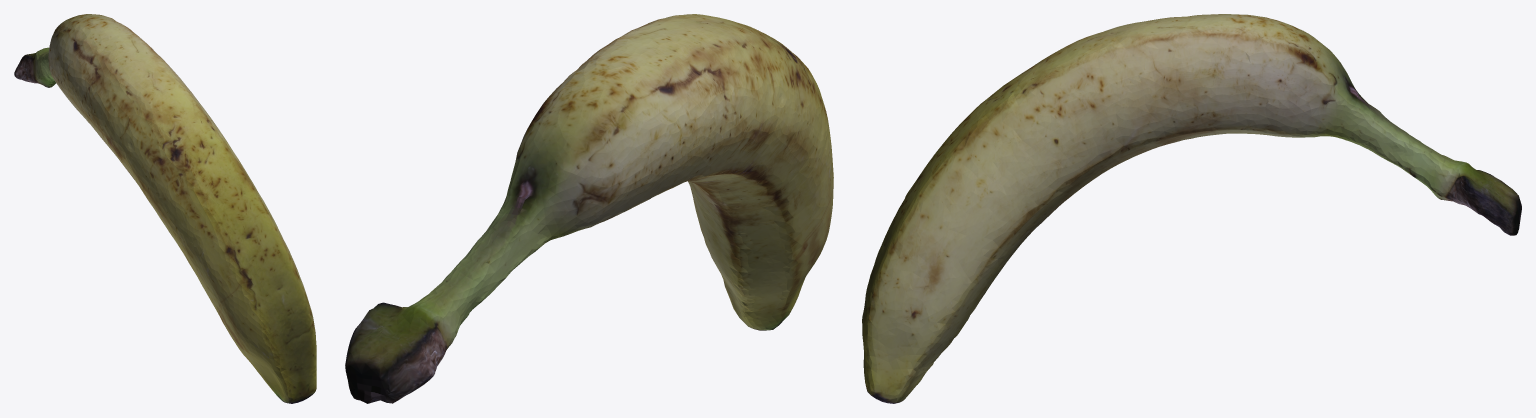
File: banana.obj
The picture shows the model from 3 angles, left to right: view 1: azimuth 30°, elevation 25°; view 2: azimuth 150°, elevation 25°; view 3: azimuth 270°, elevation 25°; orthographic projection. The views are drawn at different scales.
Parts seen in each view (by area): view 1: banan_1_Model_15; view 2: banan_1_Model_15; view 3: banan_1_Model_15.
Boxes of the visible parts, x1,y1,x2,y2 form: banan_1_Model_15: [14, 14, 316, 403]; banan_1_Model_15: [345, 14, 833, 403]; banan_1_Model_15: [862, 14, 1521, 403].
Bounding box in the file's own units: 0.0484 × 0.1178 × 0.2.
